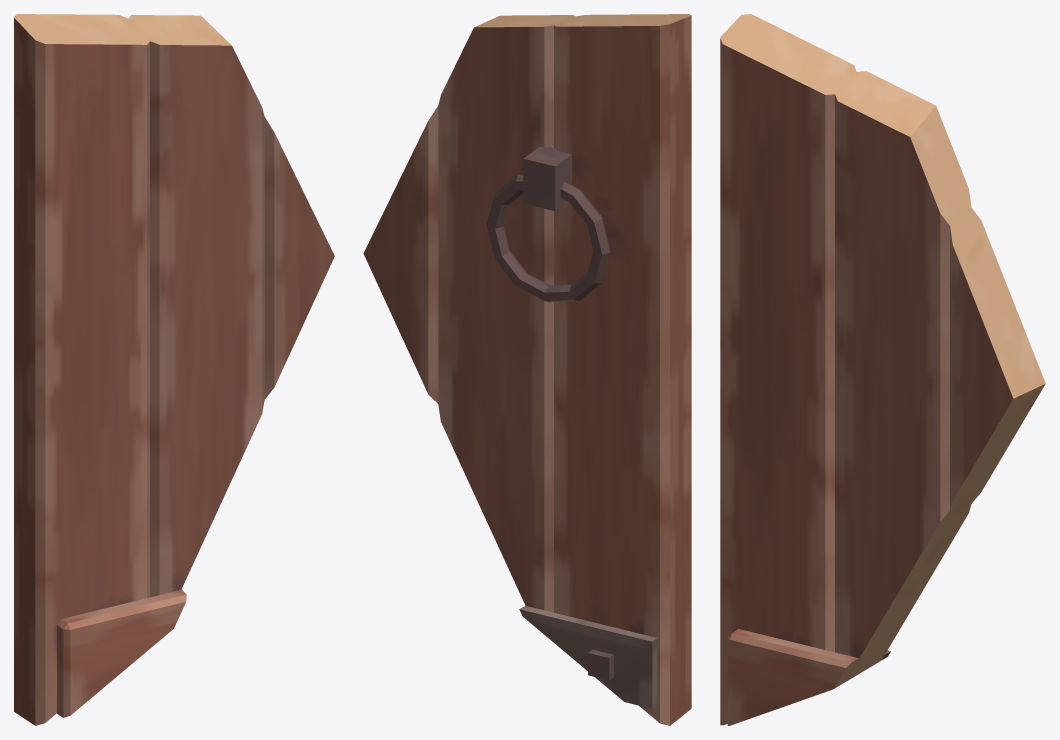
Rendered from door_s04.fbx.
The picture shows the model from 3 angles, left to right: view 1: azimuth 30°, elevation 25°; view 2: azimuth 150°, elevation 25°; view 3: azimuth 330°, elevation 25°; orthographic projection.
Parts seen in each view (by area): view 1: door_s04; view 2: door_s04; view 3: door_s04.
Boxes of the visible parts, x1=… form: door_s04: x1=14, y1=14, x2=334, y2=725; door_s04: x1=363, y1=14, x2=691, y2=725; door_s04: x1=720, y1=14, x2=1045, y2=725.
Bounding box in the file's own units: 1.7 × 3.76 × 0.53.
